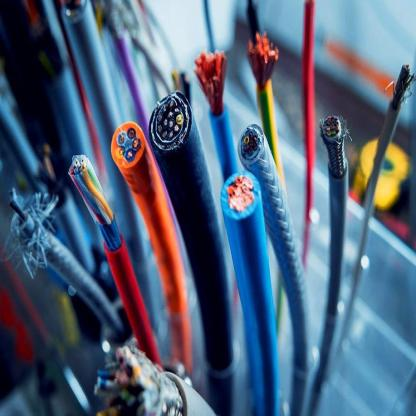wires: (1, 0, 416, 413)
